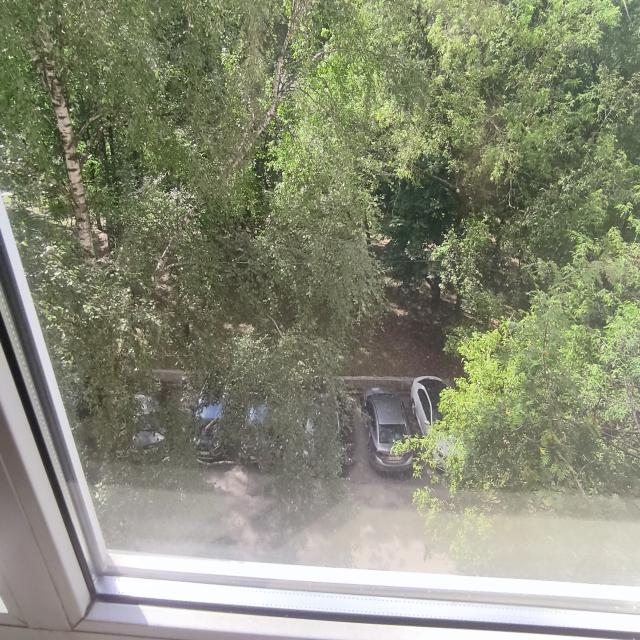car: (408, 374, 467, 474), (359, 383, 415, 478), (130, 391, 176, 471), (188, 398, 227, 471), (240, 403, 270, 461)
